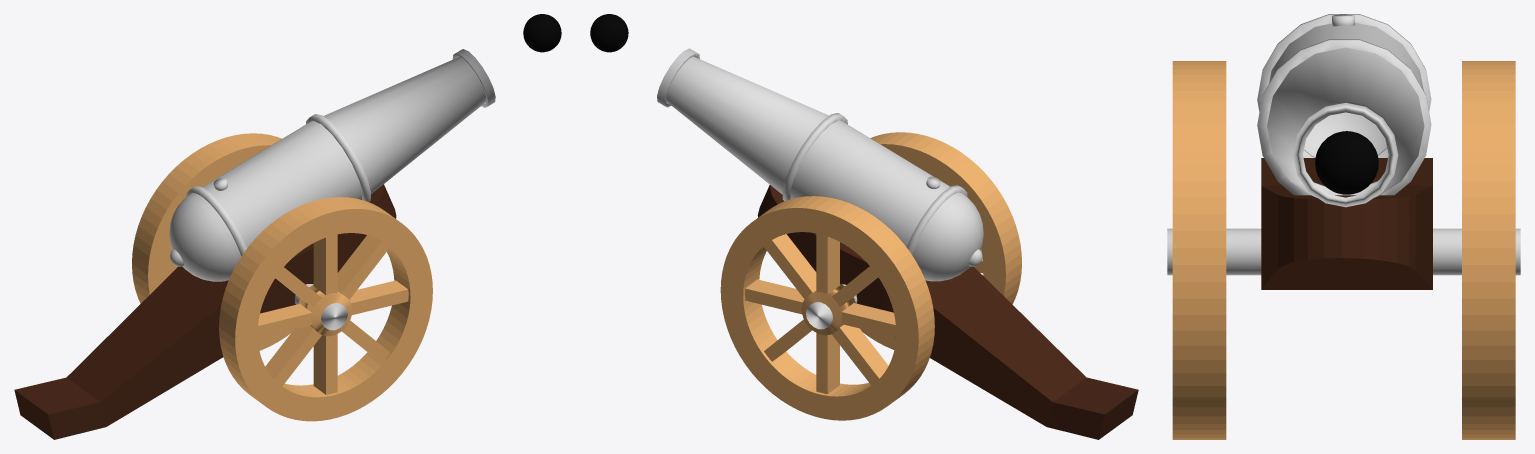
Rendered from CannonStorm.glb.
3 views of the same model, side by side, from view 1: azimuth 30°, elevation 25°; view 2: azimuth 150°, elevation 25°; view 3: azimuth 270°, elevation 25° (orthographic). The views are drawn at different scales.
Parts seen in each view (by area): view 1: Wheel01, Cannon, Base, Wheel01.001, Cannon Ball, Axis; view 2: Wheel01.001, Cannon, Base, Wheel01, Cannon Ball, Axis; view 3: Cannon, Wheel01, Wheel01.001, Base, Axis, Cannon Ball.
Part boxes in pixels (bbox=[...]): Wheel01: bbox=[219, 197, 432, 421]; Cannon: bbox=[169, 49, 495, 281]; Base: bbox=[14, 184, 396, 439]; Wheel01.001: bbox=[132, 133, 293, 357]; Cannon Ball: bbox=[523, 14, 561, 52]; Axis: bbox=[294, 284, 347, 330]; Wheel01.001: bbox=[720, 196, 934, 420]; Cannon: bbox=[657, 48, 983, 281]; Base: bbox=[757, 185, 1138, 439]; Wheel01: bbox=[860, 132, 1021, 349]; Cannon Ball: bbox=[590, 14, 628, 52]; Axis: bbox=[806, 284, 857, 329]; Cannon: bbox=[1257, 14, 1431, 207]; Wheel01: bbox=[1172, 61, 1226, 439]; Wheel01.001: bbox=[1462, 61, 1515, 439]; Base: bbox=[1261, 158, 1432, 289]; Axis: bbox=[1167, 228, 1520, 275]; Cannon Ball: bbox=[1315, 131, 1378, 194].
Size of what is drawn, in the model's own units: 10.96 by 5.96 by 3.82.
